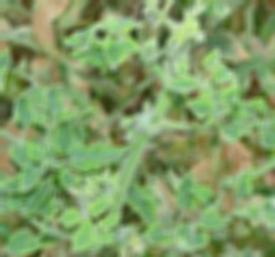Tomato leaf yellow virus: (170, 98, 226, 123), (66, 221, 98, 255), (159, 70, 204, 94), (105, 32, 127, 76), (74, 196, 114, 220)
